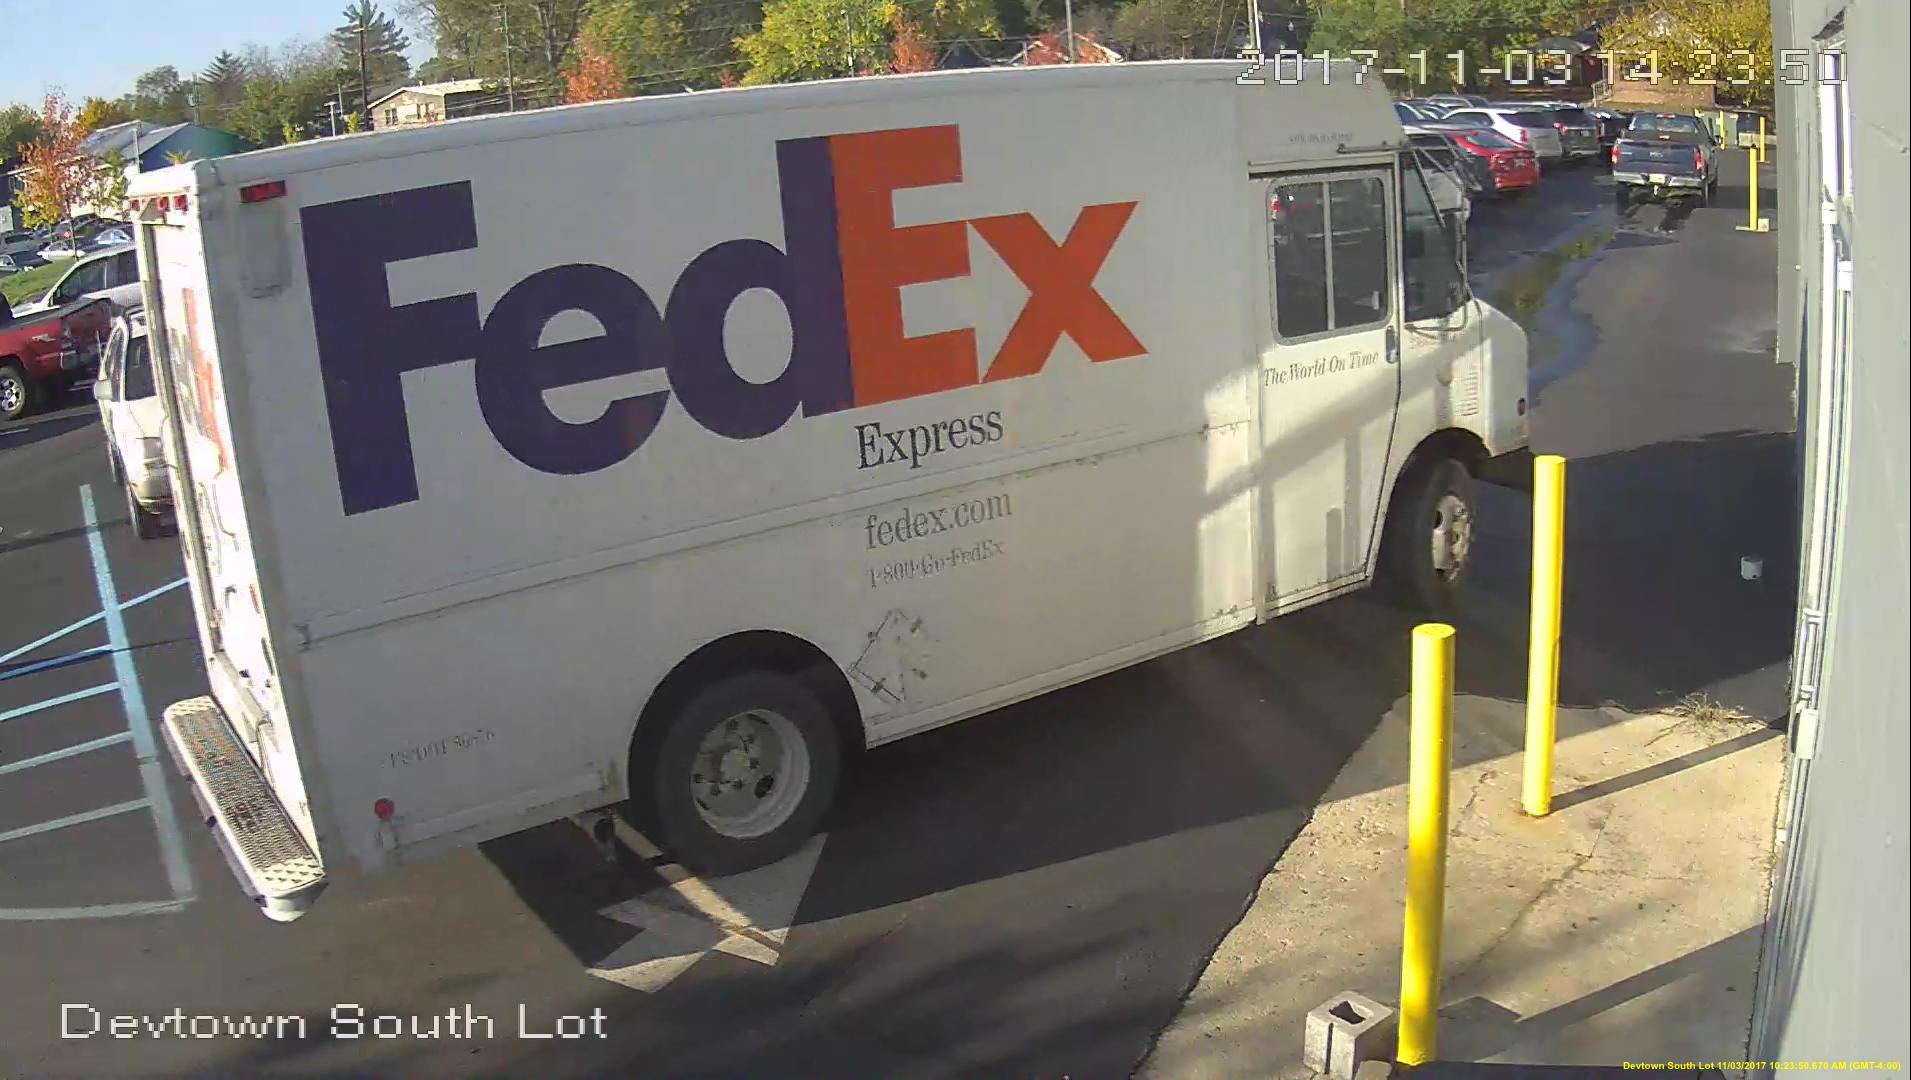fedex_truck: (129, 49, 1557, 932)
